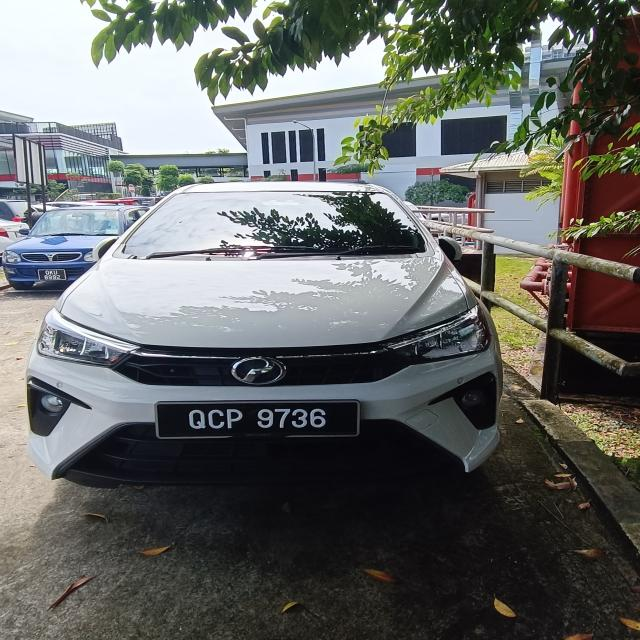PeroduaBezza: (24, 178, 505, 487)
